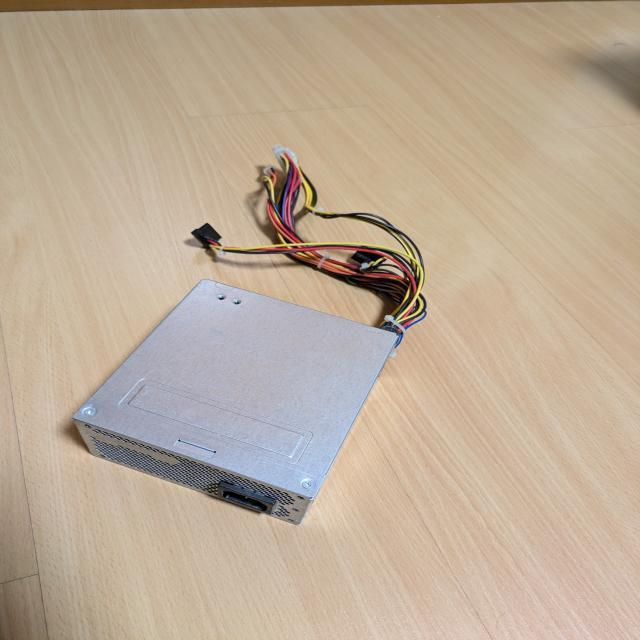PSU: (72, 278, 400, 526)
